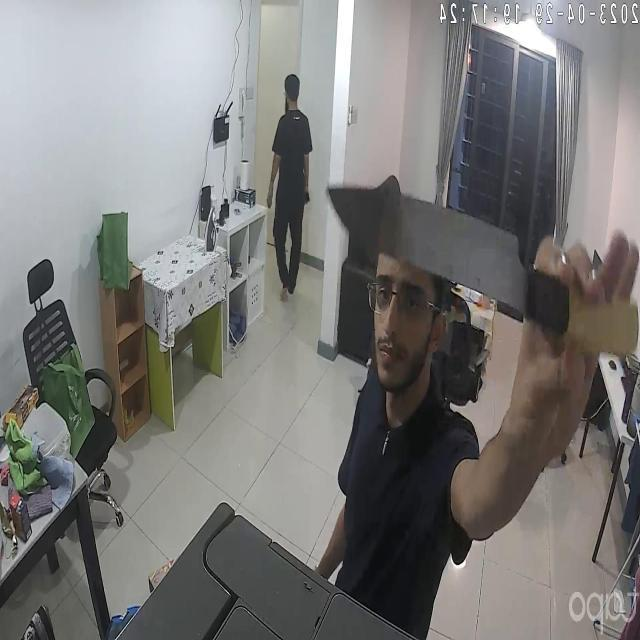Knife: (315, 160, 640, 346)
